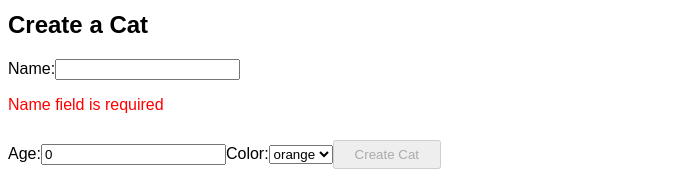
Test: (14 points) CatForm › (1 point) should disable the submit button (only) when there are errors
Expected: the button "Create Cat" is disabled, [333, 140, 441, 169]
Type "Chloe" into the field labelled "Name: Name field is required" at (148, 69), box [55, 59, 240, 80]
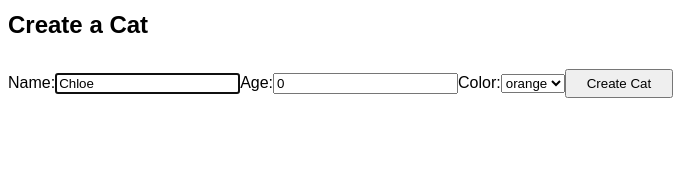
Now the button "Create Cat" is enabled, box [565, 69, 673, 98]
